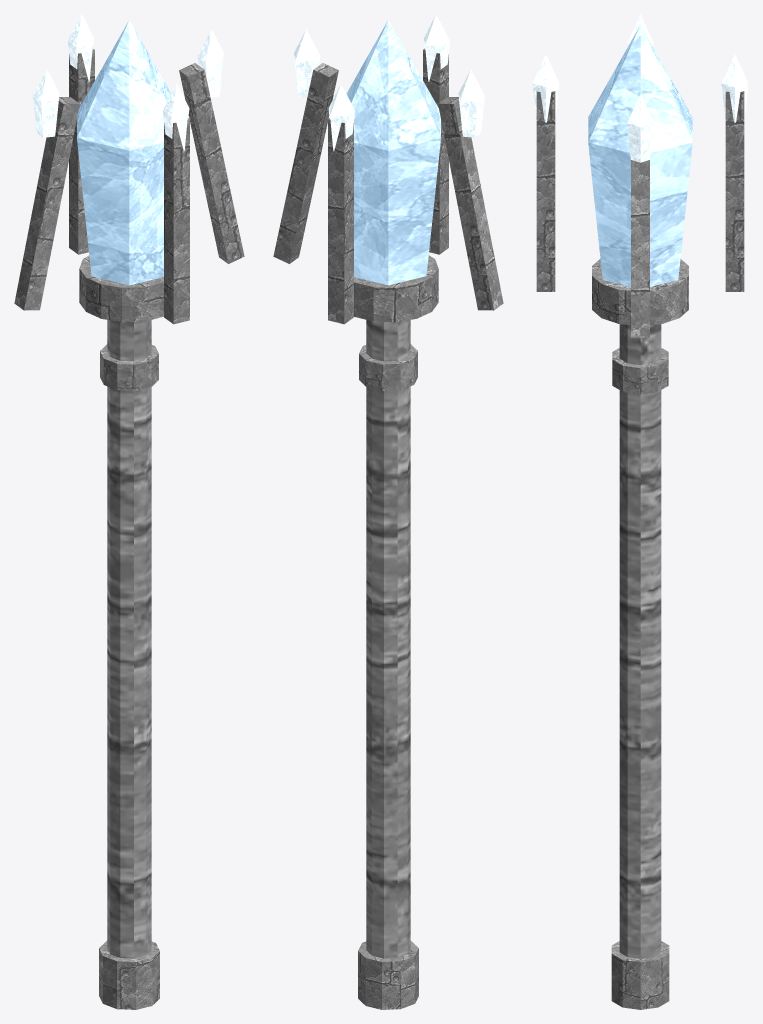
File: Magenheim_Staff_Storm_Advanced.glb
The picture shows the model from 3 angles, left to right: view 1: azimuth 30°, elevation 25°; view 2: azimuth 150°, elevation 25°; view 3: azimuth 270°, elevation 25°; orthographic projection.
Parts seen in each view (by area): view 1: shaft, arc-core, arc-prong-2, arc-prong-0, arc-prong-1, crown-hub, pommel, arc-prong-3, neck, arc-tip-2, arc-tip-0, arc-tip-3 (+1 smaller); view 2: shaft, arc-core, arc-prong-2, arc-prong-0, arc-prong-3, crown-hub, pommel, arc-prong-1, neck, arc-tip-2, arc-tip-0, arc-tip-1 (+1 smaller); view 3: shaft, arc-core, arc-prong-1, arc-prong-3, crown-hub, arc-prong-0, pommel, neck, arc-tip-0, arc-tip-1, arc-tip-3.
Part boxes in pixels (x1,y1,x2,y2): shaft: [107, 320, 151, 958]; arc-core: [77, 20, 171, 285]; arc-prong-2: [14, 97, 79, 310]; arc-prong-0: [179, 63, 244, 263]; arc-prong-1: [164, 118, 189, 324]; crown-hub: [79, 255, 163, 322]; pommel: [99, 941, 159, 1009]; arc-prong-3: [69, 48, 94, 254]; neck: [100, 344, 158, 390]; arc-tip-2: [33, 69, 59, 137]; arc-tip-0: [197, 29, 223, 97]; arc-tip-3: [68, 14, 94, 81]; shaft: [366, 320, 410, 958]; arc-core: [346, 20, 440, 285]; arc-prong-2: [438, 97, 503, 310]; arc-prong-0: [273, 63, 338, 263]; arc-prong-3: [328, 118, 353, 324]; crown-hub: [354, 255, 438, 322]; pommel: [358, 941, 418, 1009]; arc-prong-1: [423, 48, 448, 254]; neck: [359, 344, 417, 390]; arc-tip-2: [458, 69, 484, 137]; arc-tip-0: [294, 29, 320, 97]; arc-tip-1: [423, 14, 449, 81]; shaft: [619, 324, 661, 958]; arc-core: [588, 25, 692, 286]; arc-prong-1: [536, 91, 555, 291]; arc-prong-3: [725, 91, 744, 291]; crown-hub: [592, 259, 688, 325]; arc-prong-0: [631, 160, 649, 337]; pommel: [611, 941, 669, 1009]; neck: [612, 348, 668, 394]; arc-tip-0: [627, 94, 653, 162]; arc-tip-1: [532, 54, 559, 122]; arc-tip-3: [721, 54, 748, 122].
Bounding box in the file's own units: 0.4825 × 2.04 × 0.4114.
5 materials, 5 textured.
